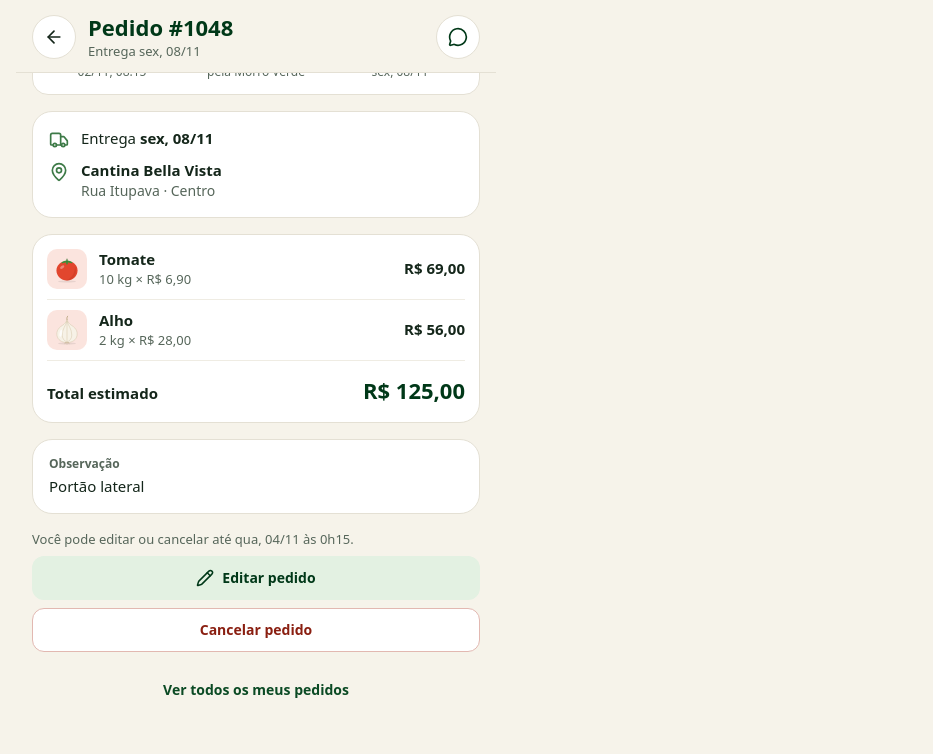
Scenario: página do pedido › pode mudar: mostra editar e cancelar com confirmação
The width and height of the screenshot is (933, 754).
(page scrolled)
Expected: the heading "Pedido #1048" is shown, left=88, top=12, right=233, bottom=42
Expected: the text "Você pode editar ou cancelar até qua, 04/11 às 0h15." is shown, left=32, top=530, right=354, bottom=548
Click the button "Cancelar pedido". click: (256, 630)
box: left=32, top=608, right=480, bottom=652
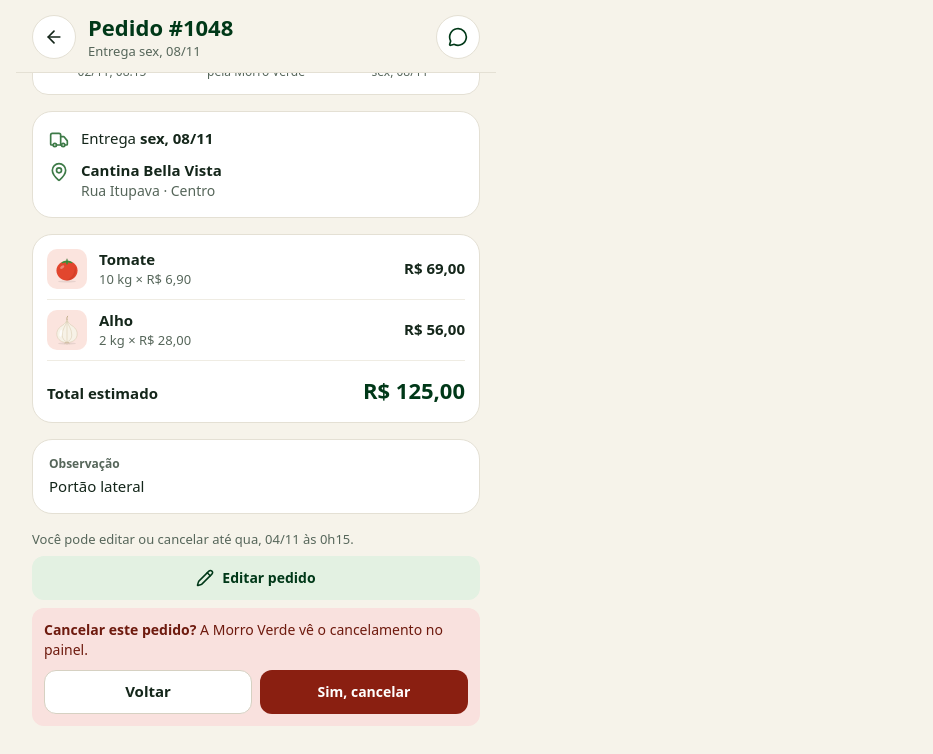
Now the text "Cancelar este pedido?" is shown, box left=44, top=620, right=196, bottom=639
Click the button "Voltar". click: (148, 692)
box: left=44, top=670, right=252, bottom=714
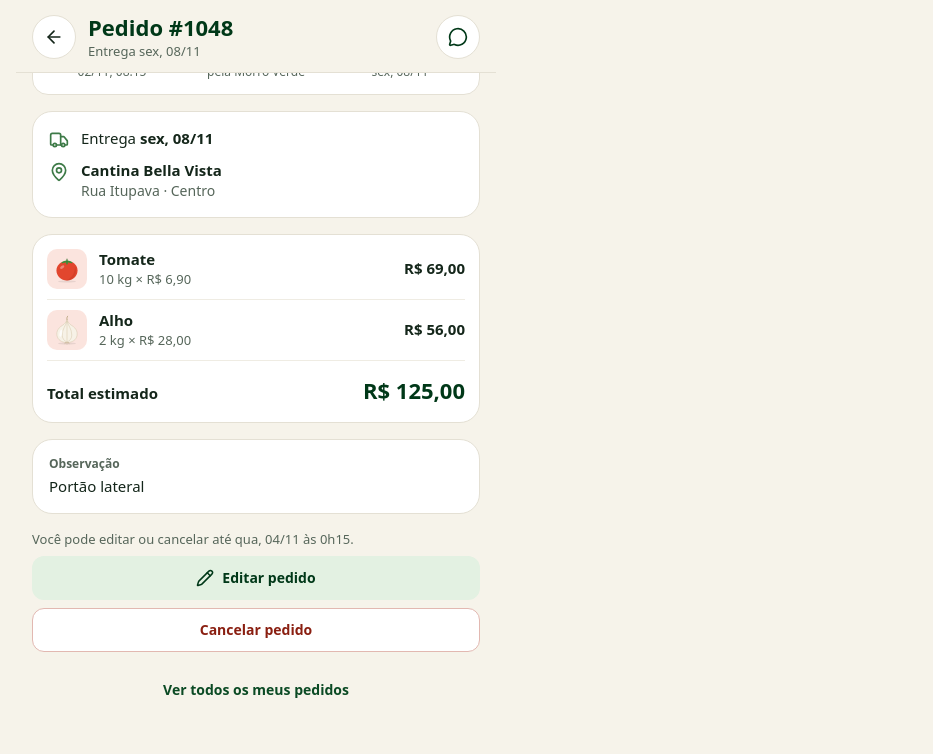
Now the text "Cancelar este pedido?" is gone
Click the button "Cancelar pedido". click: (256, 630)
box: left=32, top=608, right=480, bottom=652
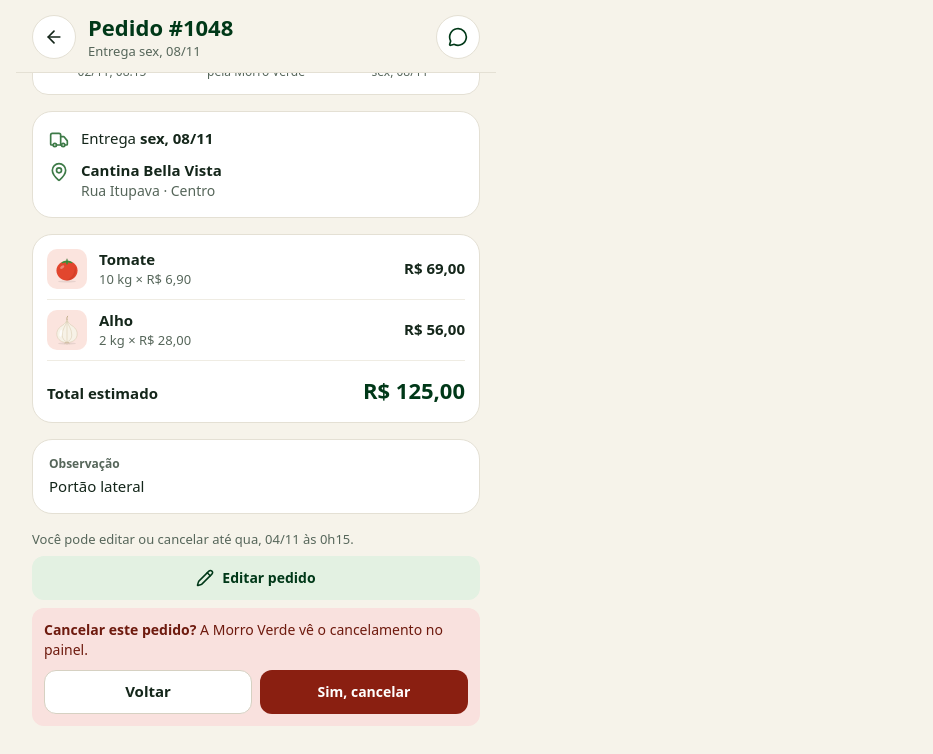
Click the button "Sim, cancelar". click: (364, 692)
box: left=260, top=670, right=468, bottom=714
(page scrolled)
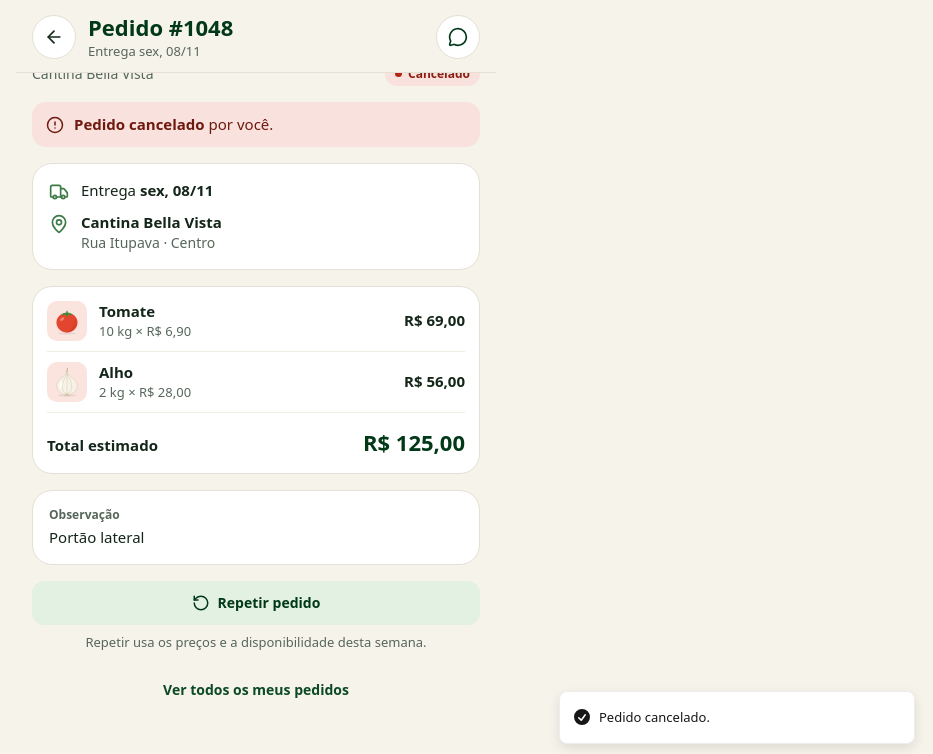
Now the text "Pedido cancelado" is shown, box left=74, top=114, right=205, bottom=134
Now the button "Editar pedido" is gone
